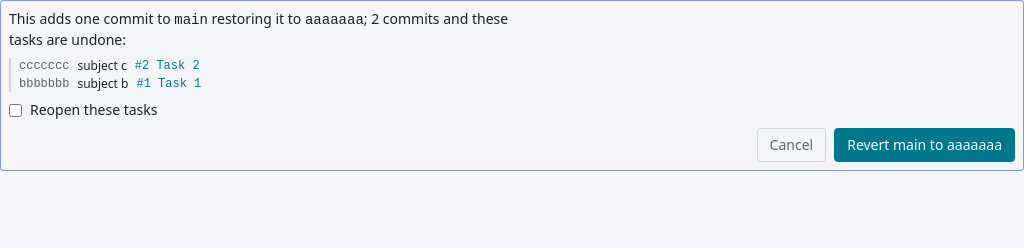
Test: RevertConfirm › reads a revert that would change nothing as advice too
Click the button "Revert main to aaaaaaa": (925, 145) [834,128,1015,162]
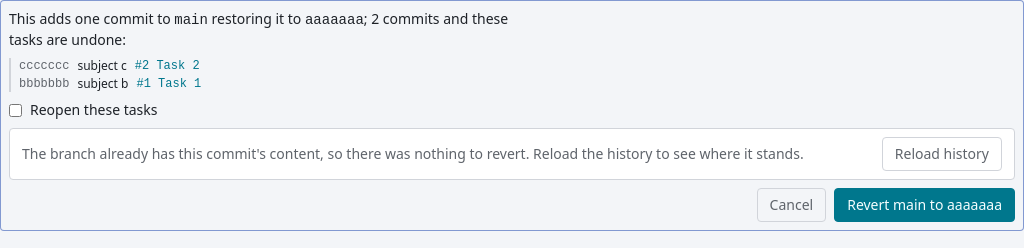
Now the button "Reload history" is shown, box [882,137,1002,171]
Now the text "The branch already has this commit's content" is shown, box [22,144,804,163]
